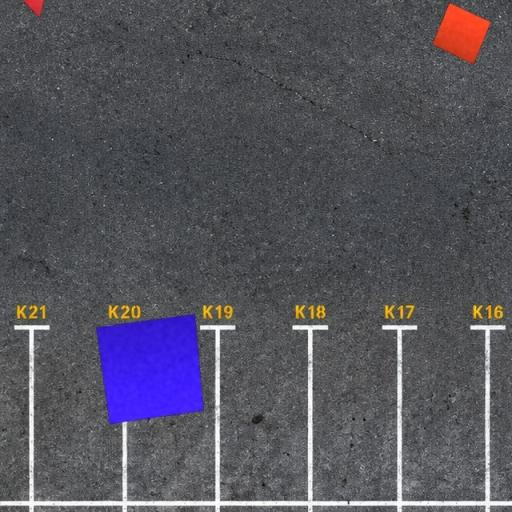BLUE_SQUARE: (96, 314, 205, 424)
RED_SQUARE: (432, 2, 492, 66)
